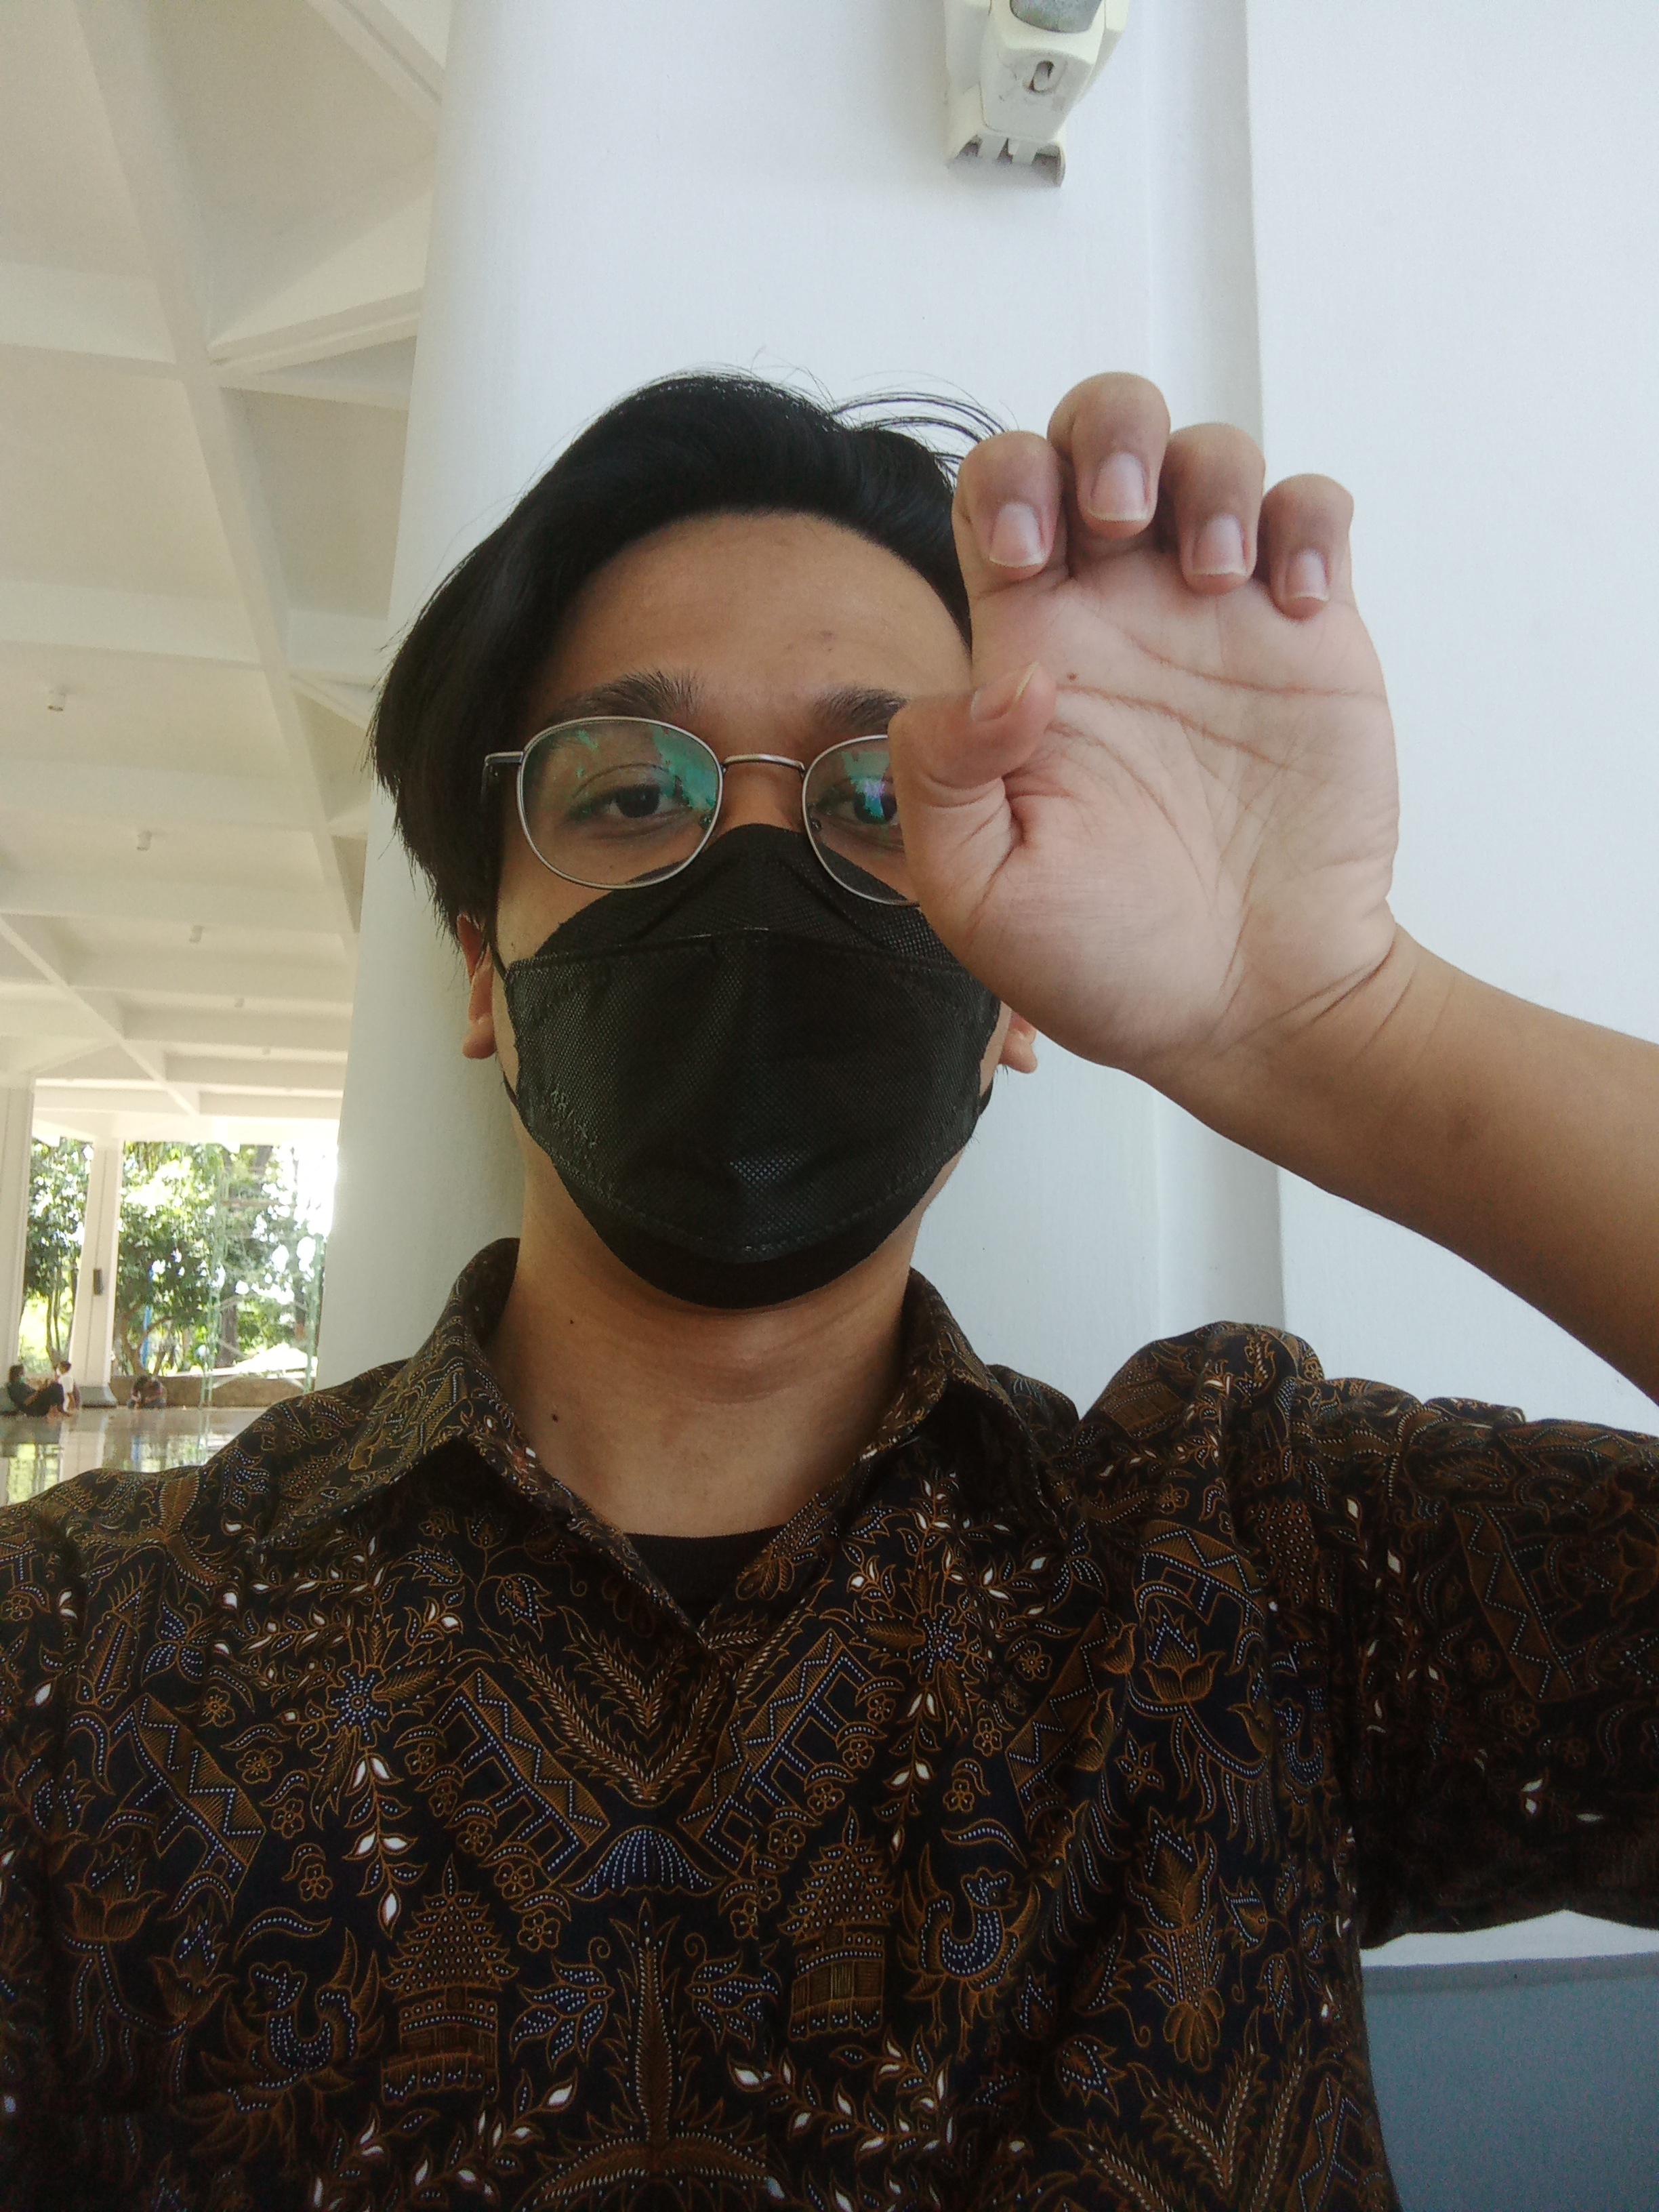E: (866, 336, 1542, 1109)
